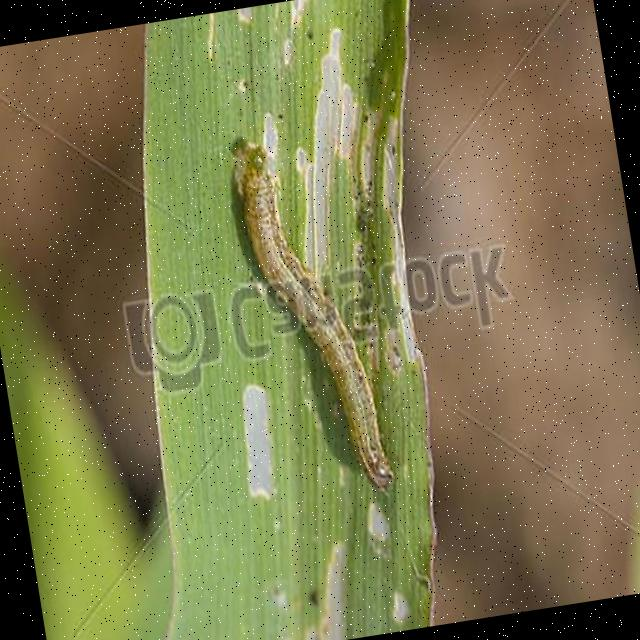worm: (225, 123, 400, 514)
